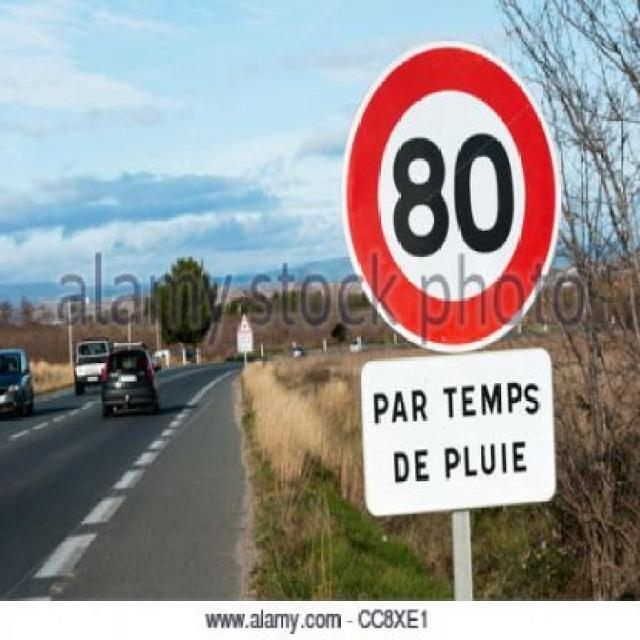forb_speed_over_80: (350, 47, 552, 345)
